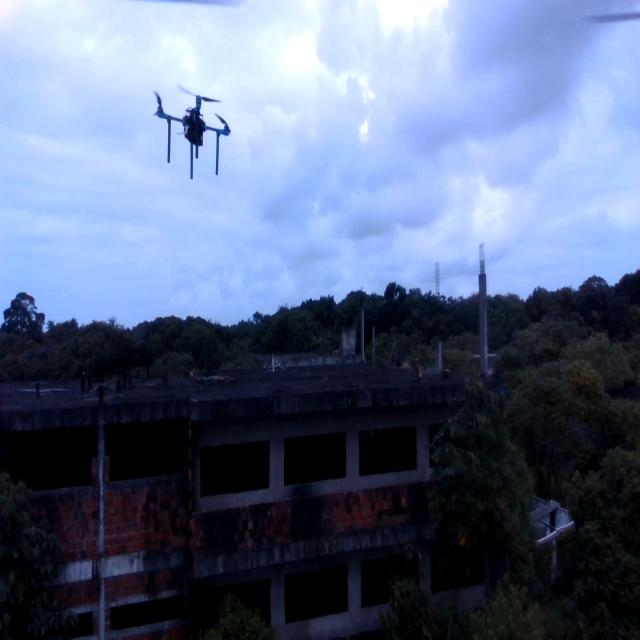-uav-: (142, 68, 236, 193)
